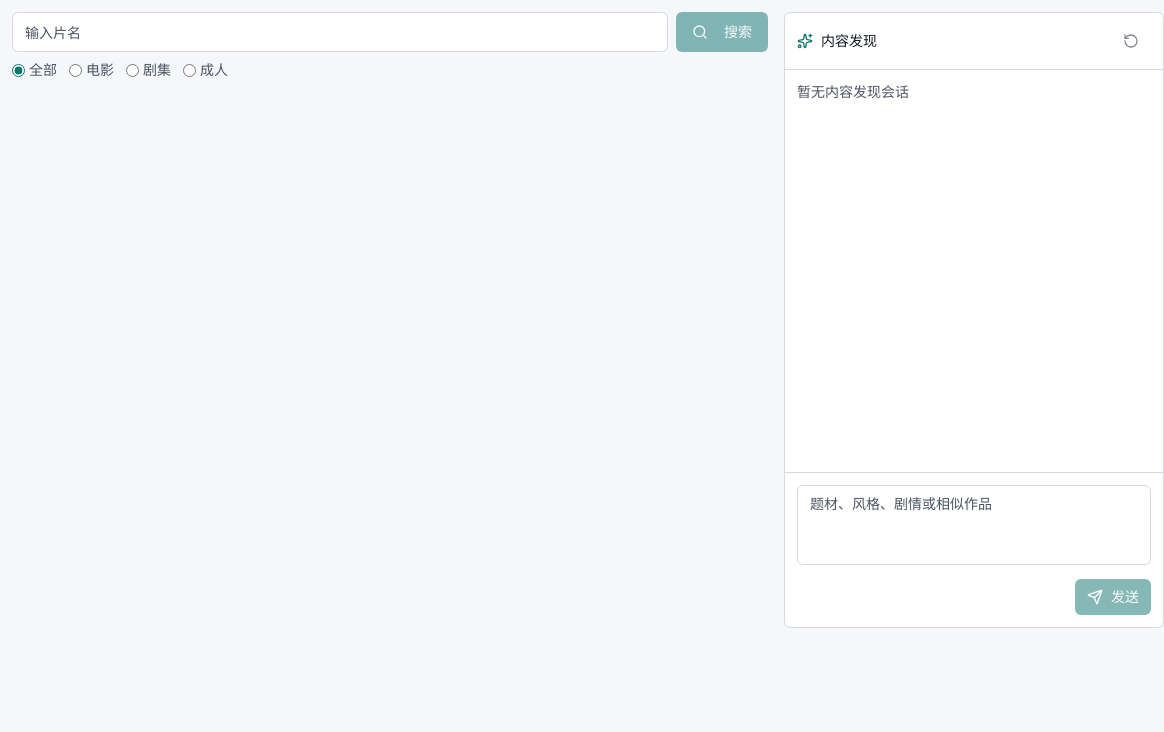
Test: DiscoveryPage › renders candidate cards with download button
The image size is (1164, 732).
Type "movie" into the field with test id "discovery-search-input" at (340, 32), box [12,12,668,52]
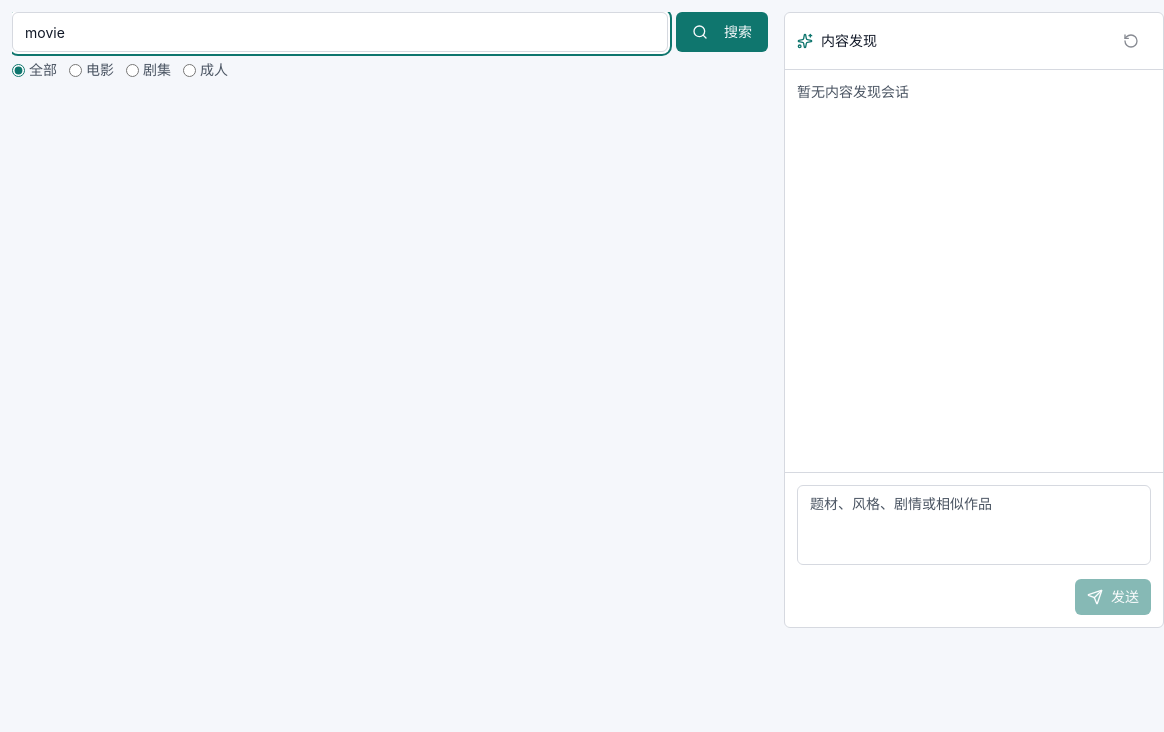
Click the button "搜索" at (722, 32), box [676,12,768,52]
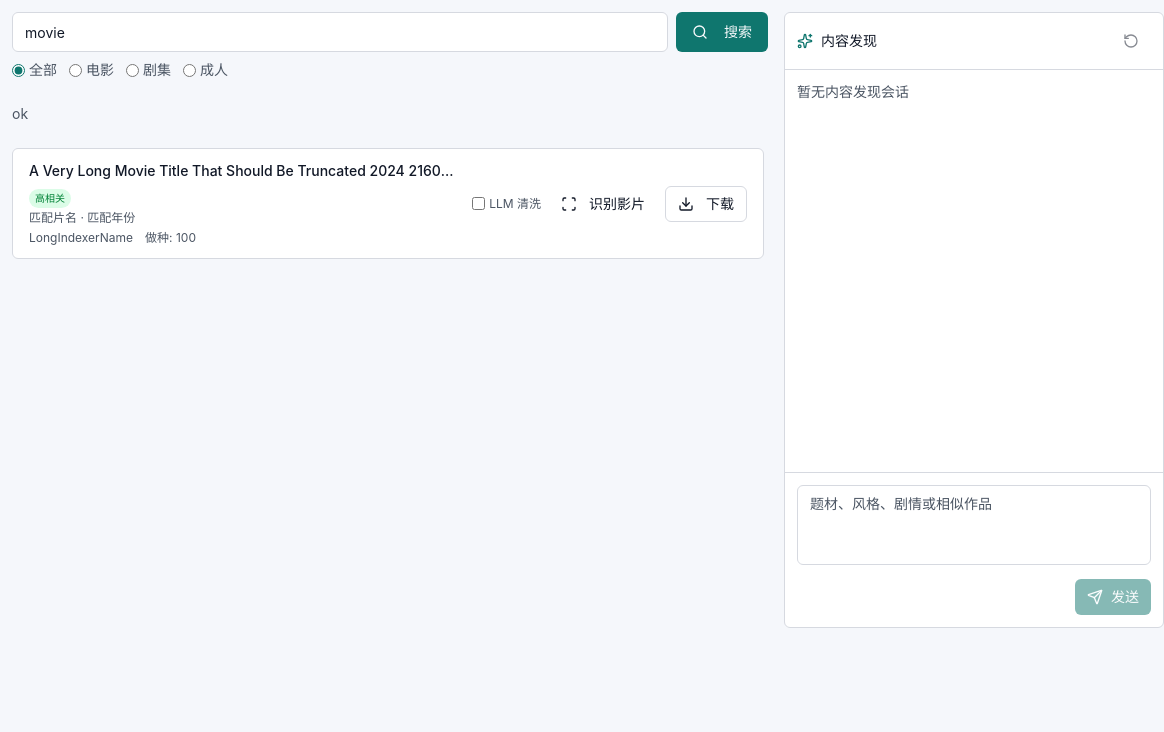
Now the element with test id "resource-candidate" is shown, box [12,148,764,259]
Now the button with test id "download-button" is enabled, box [665,186,747,222]
